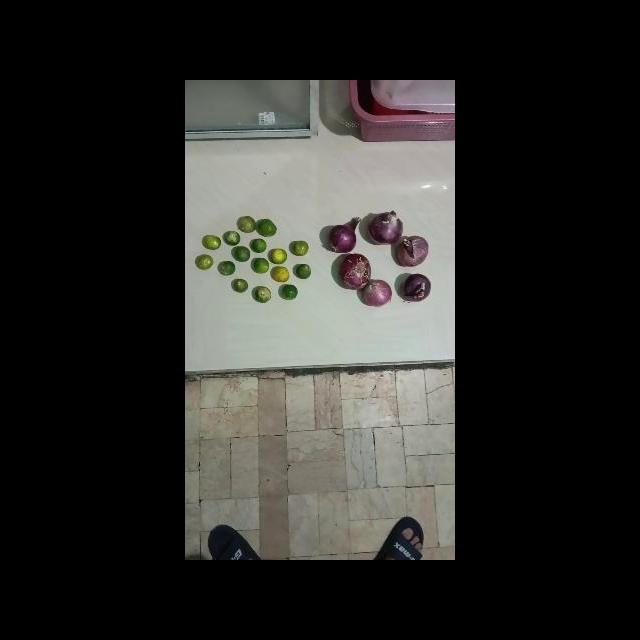onion: (328, 216, 361, 254), (369, 210, 404, 245), (340, 254, 371, 291), (393, 236, 429, 267), (361, 277, 392, 307), (402, 273, 432, 304)
